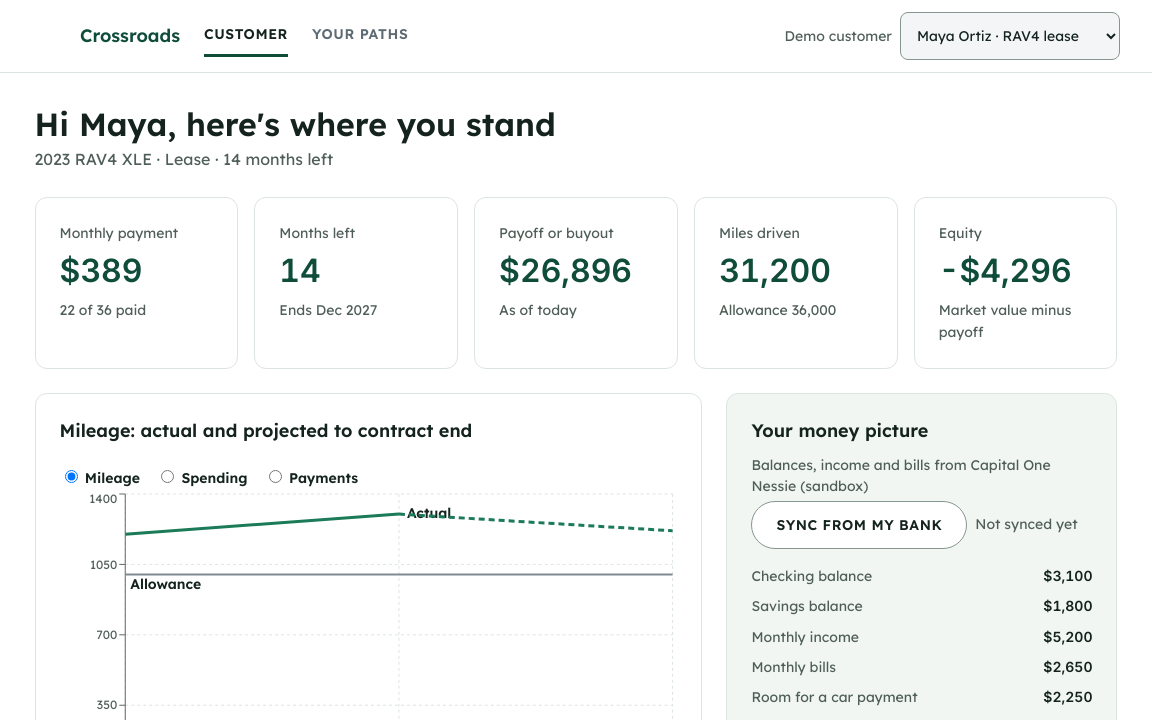
Test: Sync from my bank (FR-039) › replaces the figures with the refreshed ones and shows the sync time
Expected: the text "$3,100" is shown, [1043,565,1092,587]
Click the button "Sync from my bank".
click(859, 525)  # box [752,501,967,549]
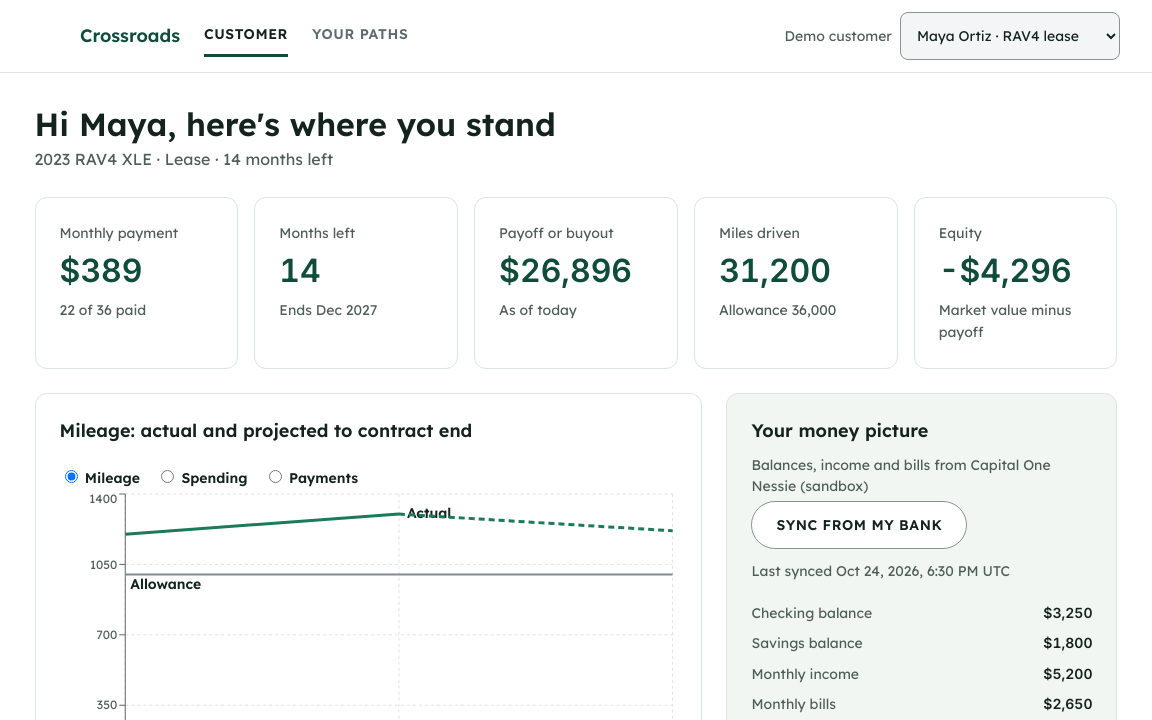
Expected: the text "$3,250" is shown, [1043,602,1092,624]
Expected: the text "Last synced Oct 24, 2026, 6:30 PM UTC" is shown, [752,561,1010,582]
Expected: the text "$3,100" is gone
